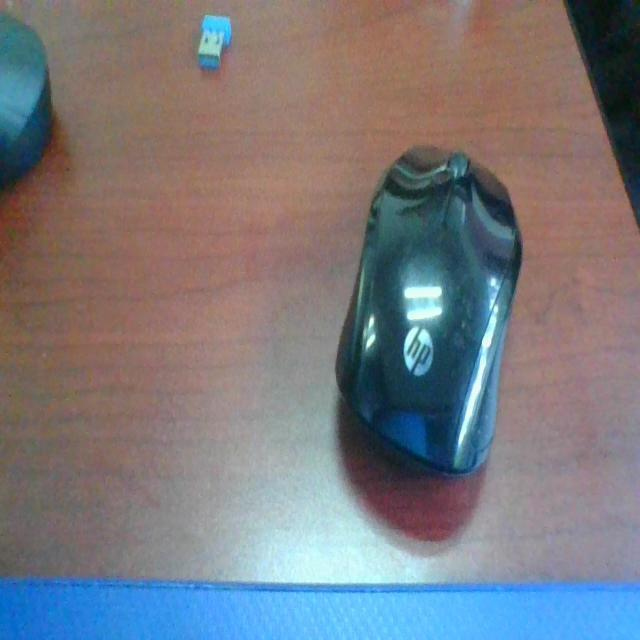Mouse: (342, 125, 516, 568)
